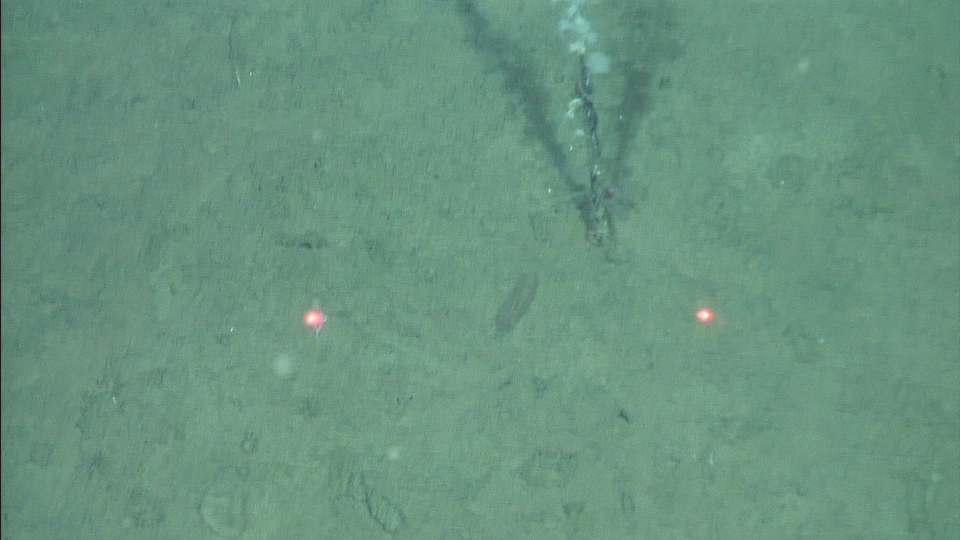PENIAGONE_VITRAE: (494, 269, 538, 333)
TJALFIELLA: (597, 182, 625, 205)
